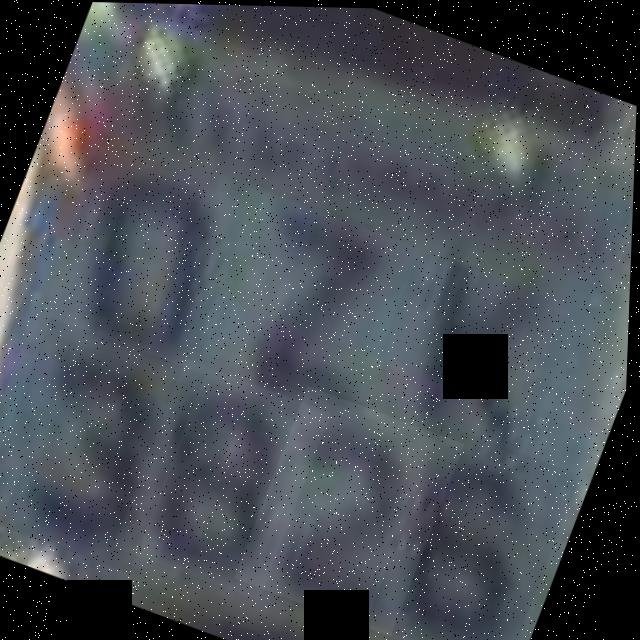2: (236, 383, 468, 635)
3: (0, 316, 209, 574)
6: (369, 420, 585, 640)
8: (116, 357, 335, 601)
O: (32, 145, 257, 384)
Z: (203, 188, 423, 409)
